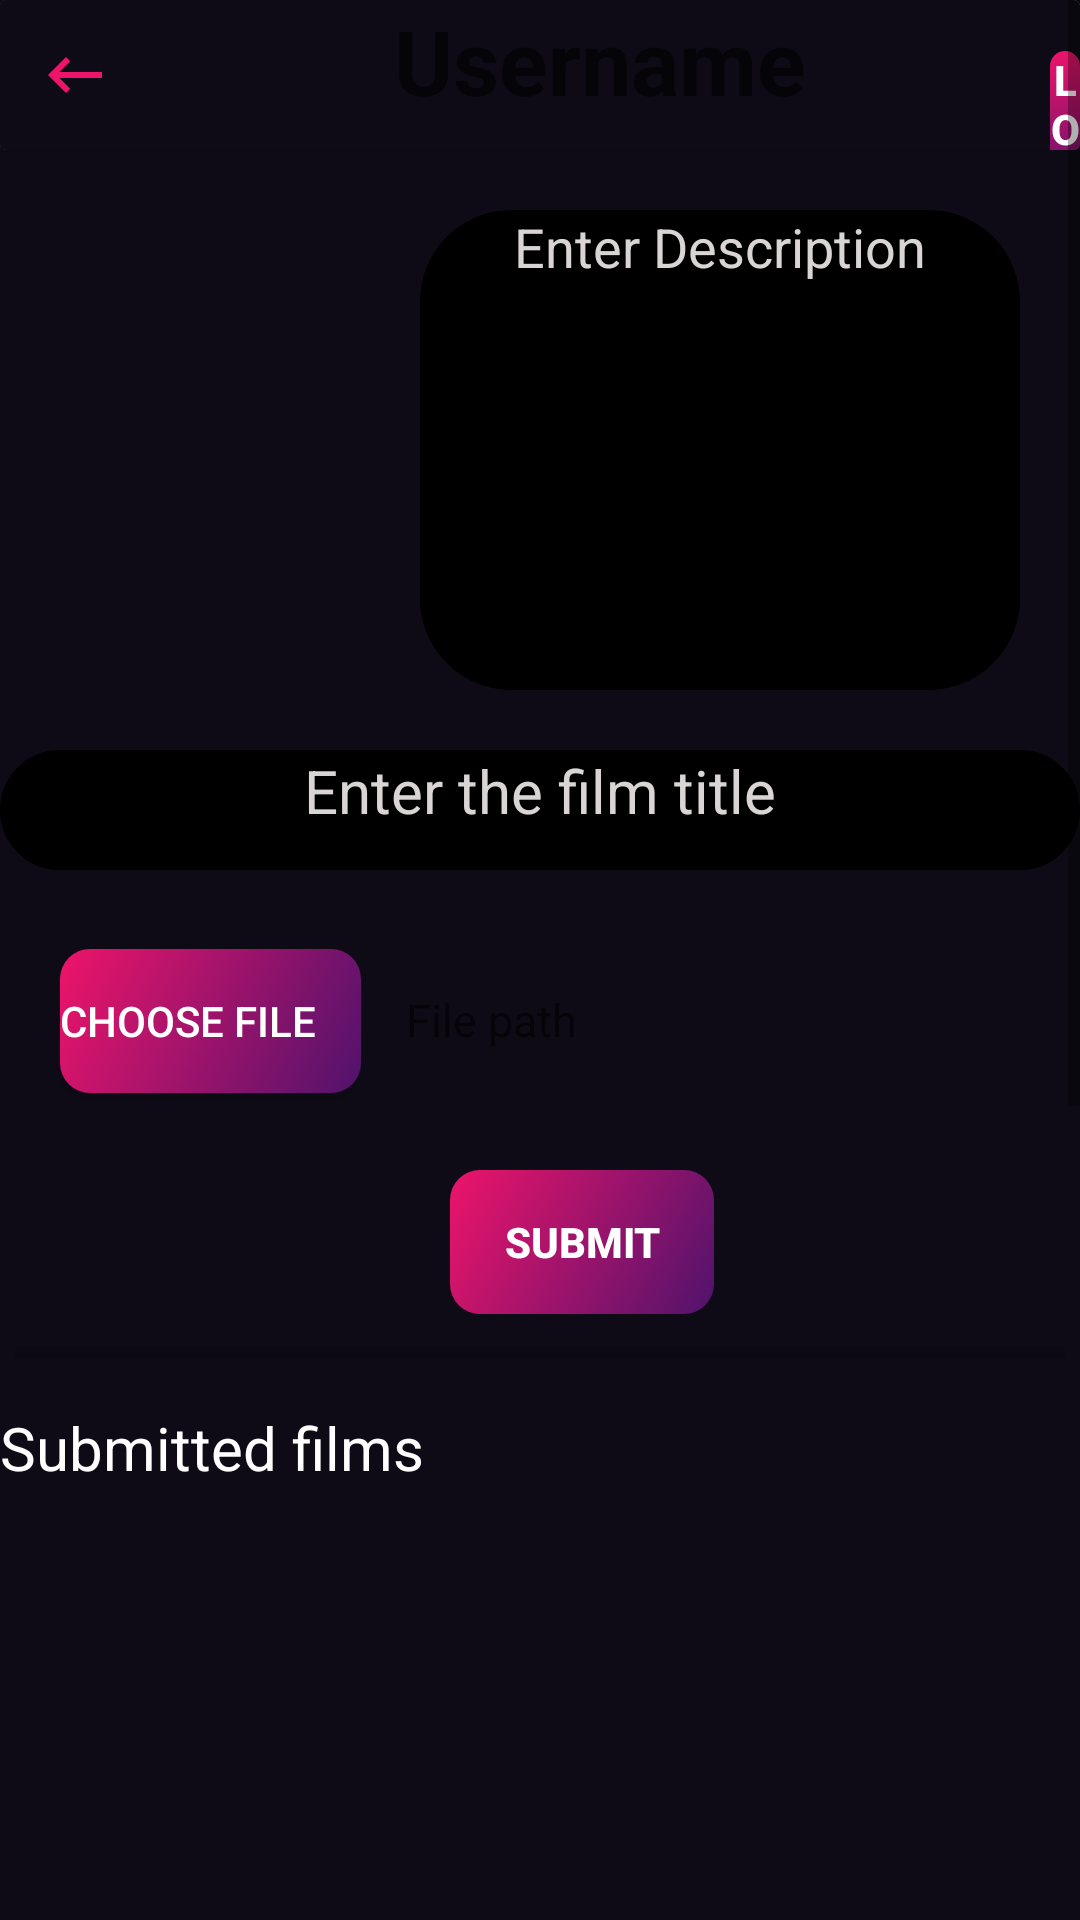

Where to tap for icons on this 1080*1920 app screen, as (x=x, y=y):
keyboard backspace: (x=75, y=75)
